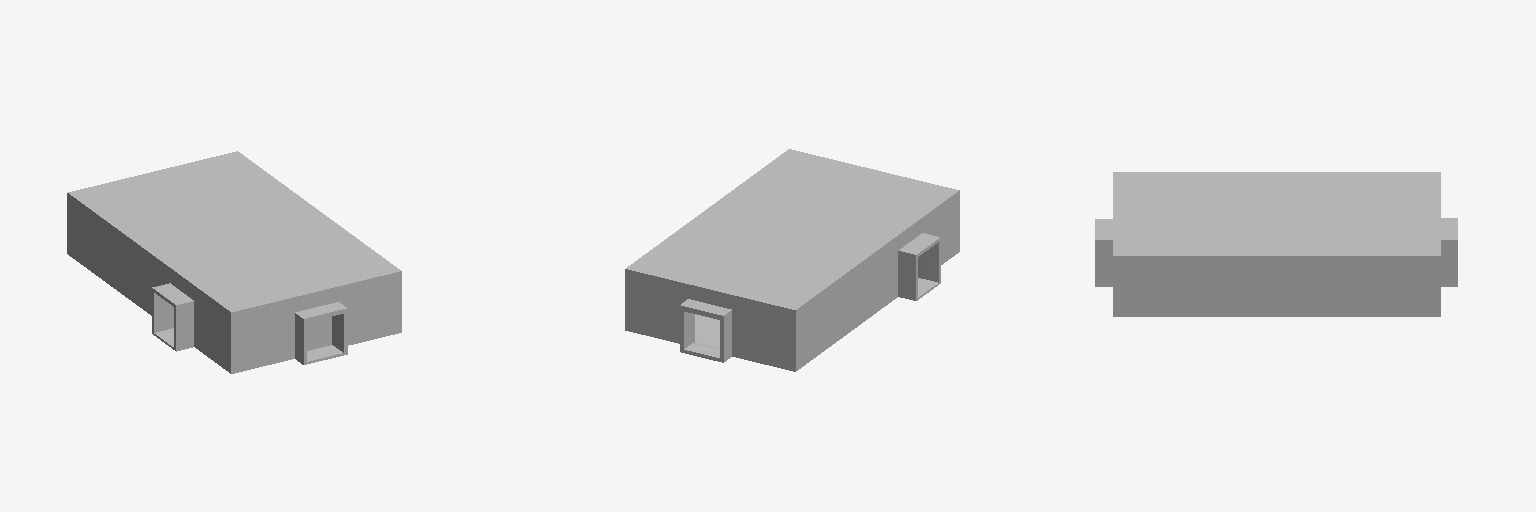
File: RoomOne.obj
3 renders of one model, left to right at view 1: azimuth 30°, elevation 25°; view 2: azimuth 150°, elevation 25°; view 3: azimuth 270°, elevation 25°, orthographic.
Visible parts, largest first — view 1: Cube; view 2: Cube; view 3: Cube.
Boxes of the visible parts, x1=… form: Cube: x1=67, y1=151, x2=401, y2=373; Cube: x1=625, y1=149, x2=959, y2=371; Cube: x1=1095, y1=172, x2=1457, y2=316.
Size of the model in its own units: 8.89 by 2.08 by 11.27.